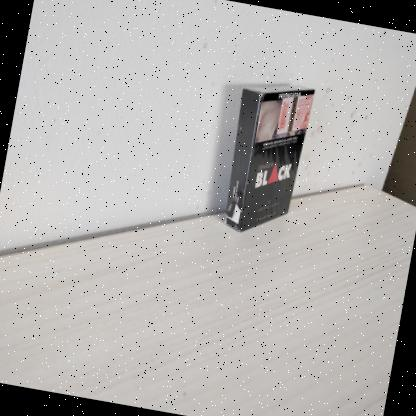bungkus rokok: (214, 60, 327, 244)
